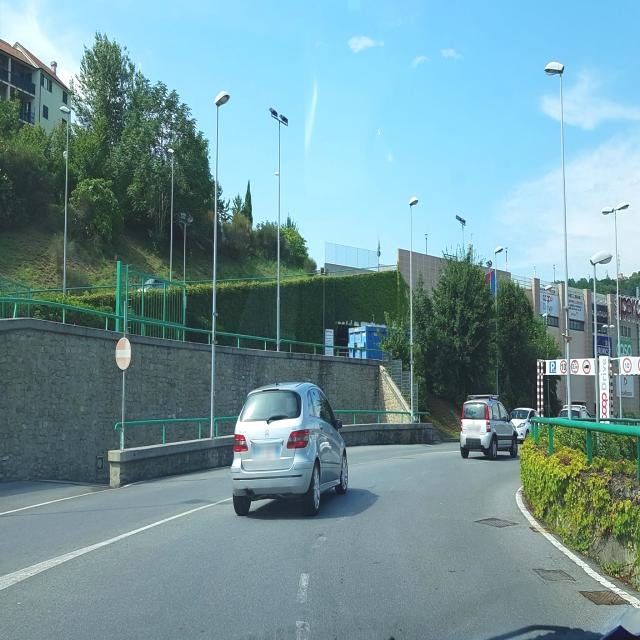car: (232, 380, 348, 516), (459, 393, 518, 459), (511, 406, 540, 443), (558, 400, 593, 420)
